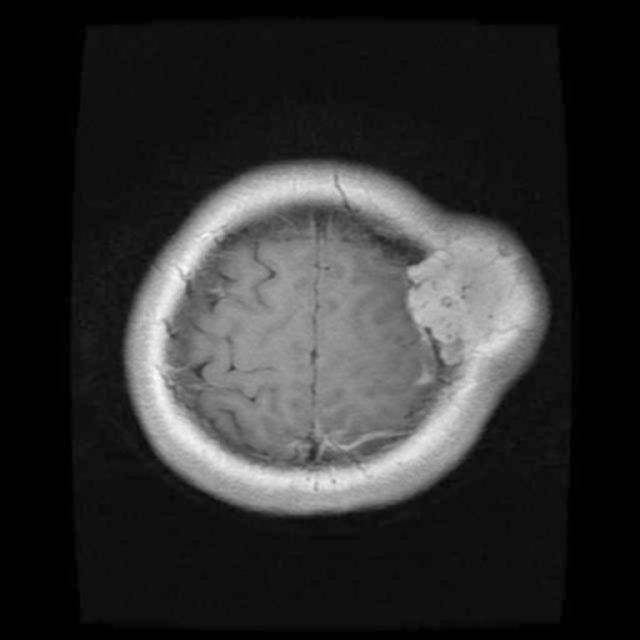meningioma tumor: (388, 218, 544, 376)
